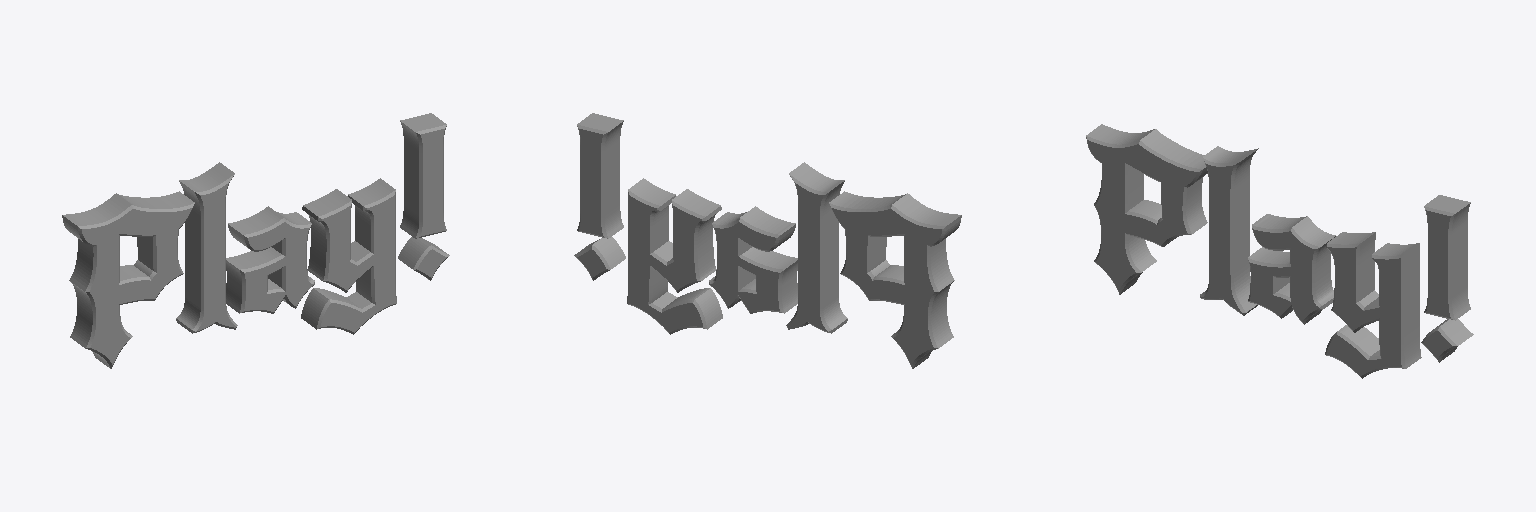
File: Play.obj
The picture shows the model from 3 angles: view 1: azimuth 30°, elevation 25°; view 2: azimuth 150°, elevation 25°; view 3: azimuth 330°, elevation 25°; orthographic projection.
Visible parts, largest first — view 1: Text; view 2: Text; view 3: Text.
Part boxes in pixels (x1,y1,x2,y2): Text: (62,113,449,368); Text: (574,113,961,368); Text: (1086,124,1473,378).
Bounding box in the file's own units: 1.8 × 0.8814 × 0.154.